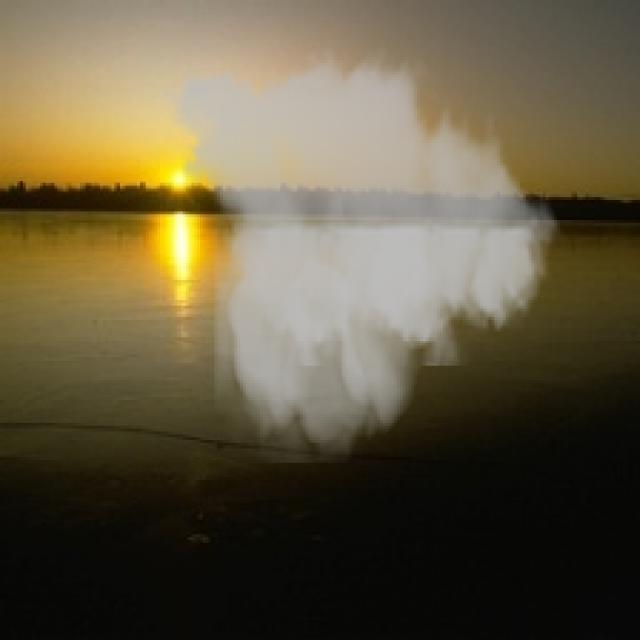smoke: (152, 43, 572, 463)
